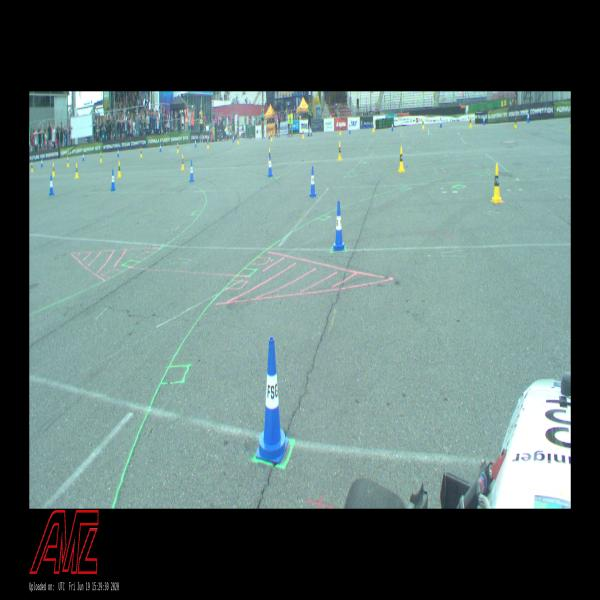blue_cone: (256, 337, 288, 463), (333, 201, 345, 250), (309, 166, 316, 197), (268, 154, 273, 176), (111, 170, 116, 191), (49, 175, 54, 195), (190, 161, 194, 182), (527, 110, 530, 123), (391, 122, 394, 131), (440, 117, 442, 128), (483, 114, 485, 125), (41, 157, 43, 167), (82, 151, 84, 161), (117, 148, 119, 158), (160, 142, 162, 152), (194, 138, 196, 148), (349, 124, 351, 134), (232, 134, 234, 143), (268, 130, 270, 139), (310, 127, 312, 136)
yellow_cone: (491, 164, 503, 203), (398, 146, 405, 172), (338, 142, 342, 160), (268, 148, 272, 164), (181, 154, 185, 170), (75, 163, 79, 178), (118, 161, 121, 177), (514, 115, 517, 128), (469, 116, 472, 128), (339, 125, 342, 136), (372, 122, 375, 132), (53, 163, 55, 177), (569, 116, 571, 130), (140, 148, 143, 157), (67, 156, 69, 167), (422, 118, 424, 129), (31, 162, 33, 172), (100, 152, 102, 162), (177, 142, 179, 152), (270, 131, 272, 141), (302, 128, 304, 138), (238, 135, 240, 144), (208, 140, 209, 148)
